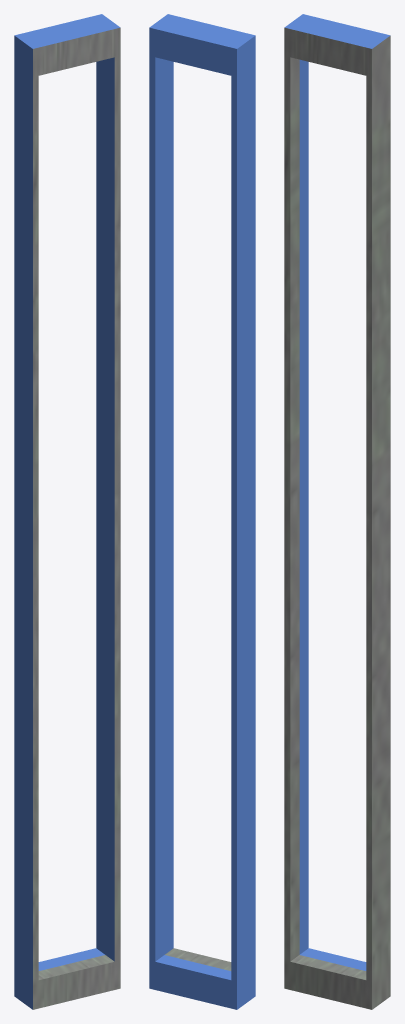
Rendered from ventanaPD.obj.
3 views of the same model, side by side, from view 1: azimuth 30°, elevation 25°; view 2: azimuth 150°, elevation 25°; view 3: azimuth 330°, elevation 25° (orthographic).
Visible parts, largest first — view 1: alum; view 2: alum; view 3: alum.
Part boxes in pixels (x1,y1,x2,y2): alum: (14, 14, 120, 1009); alum: (149, 14, 255, 1009); alum: (284, 14, 390, 1009).
Size of the model in its own units: 0.1911 by 2 by 0.0701.
Materials: 2 (1 with a texture image).
